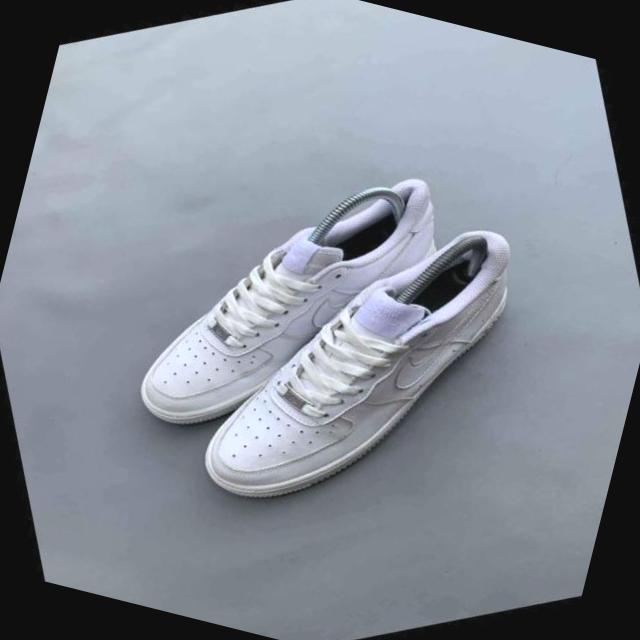nike_fake_airforce: (117, 134, 628, 594), (64, 102, 512, 506)
